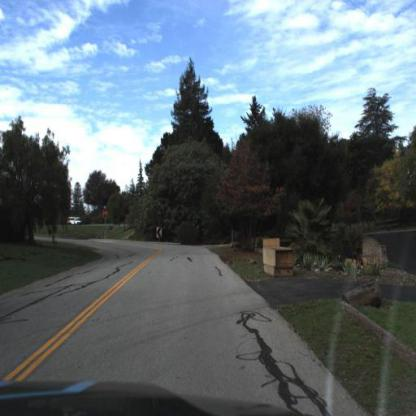car: (69, 216, 87, 230)
